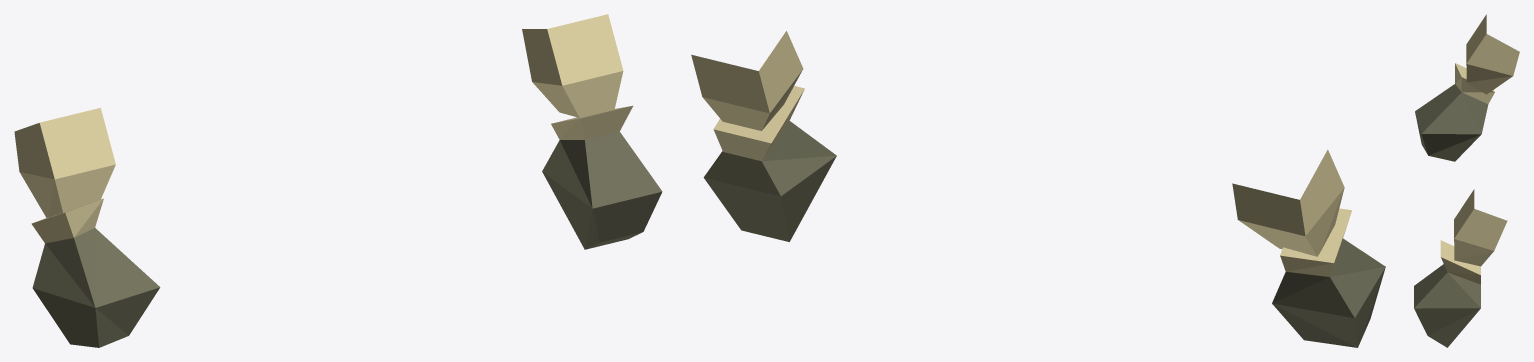
File: player_barrows_gloves.glb
3 renders of one model, left to right at view 1: azimuth 30°, elevation 25°; view 2: azimuth 150°, elevation 25°; view 3: azimuth 270°, elevation 25°, orthographic. The views are drawn at different scales.
Bounding box in the file's own units: 66.8 × 25.3 × 15.85.
Materials: 1 (1 with a texture image).
